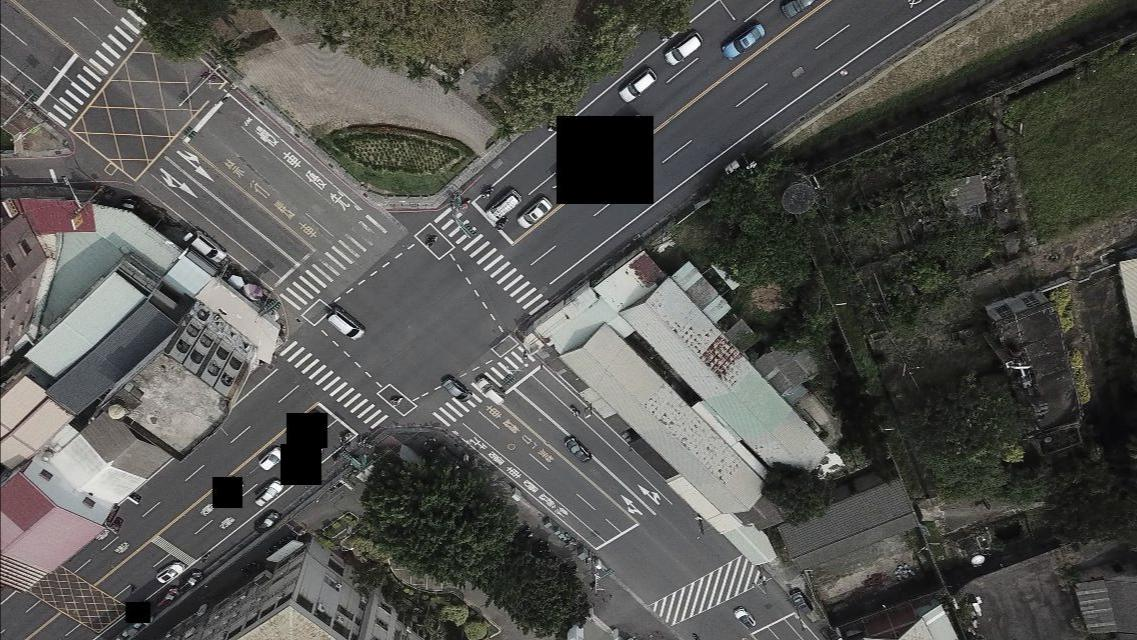vehicle: (721, 23, 766, 61), (564, 116, 601, 154), (484, 187, 523, 223), (663, 31, 701, 67), (619, 69, 657, 104), (183, 230, 224, 262), (326, 309, 363, 340), (516, 197, 551, 228), (778, 0, 821, 20), (476, 378, 505, 406), (441, 375, 470, 403), (255, 481, 282, 507), (155, 560, 185, 583), (564, 438, 591, 462), (257, 447, 282, 472), (252, 510, 279, 533), (789, 589, 812, 614), (180, 568, 203, 592), (154, 587, 177, 610), (734, 607, 755, 628)
